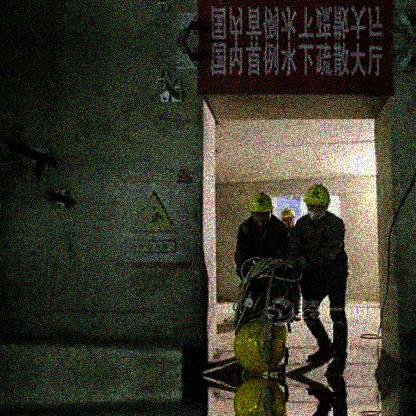helmet: (291, 184, 349, 371), (303, 183, 332, 220), (249, 190, 273, 227), (280, 207, 295, 227)
